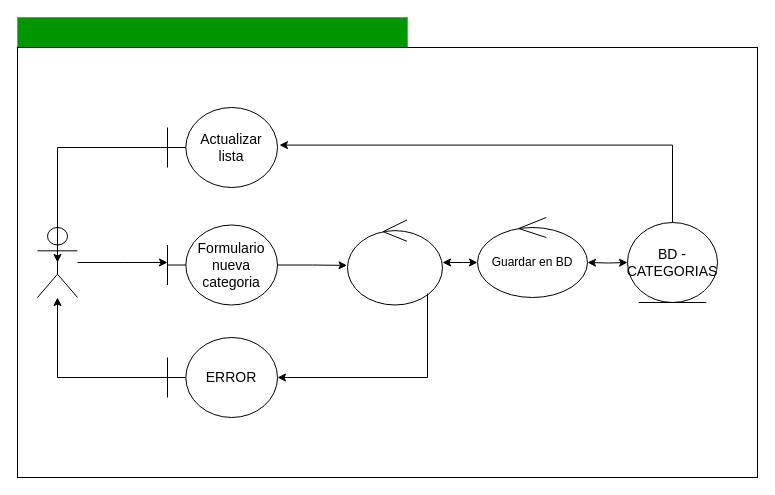
Image size: 775x495. Some labels were removed from this diagram. Each missing label, with the centre of its shape:
"Administrador" belongs at point (57, 262).
"DR 2.3.1 NUEVA CATEGORIA" belongs at point (212, 32).
"Validar datos" belongs at point (394, 262).
